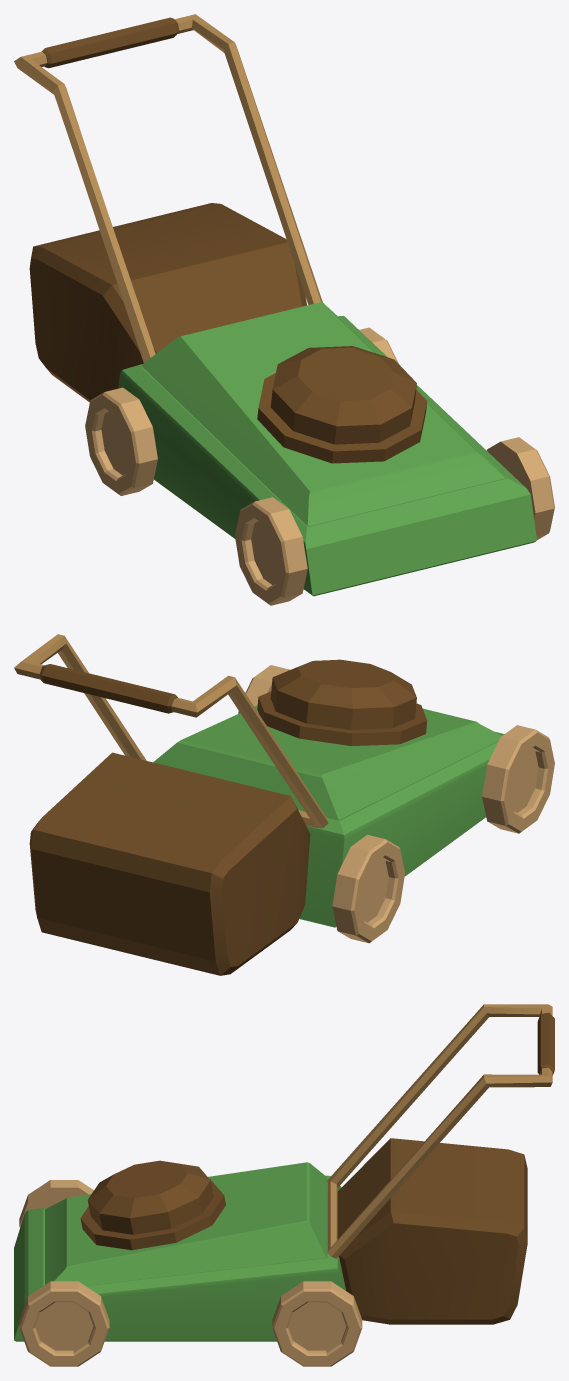
File: lawn_mower_a.gltf
The picture shows the model from 3 angles, top to bottom: view 1: azimuth 30°, elevation 25°; view 2: azimuth 150°, elevation 25°; view 3: azimuth 270°, elevation 25°; orthographic projection. The views are drawn at different scales.
Parts seen in each view (by area): view 1: lawn mower_a001; view 2: lawn mower_a001; view 3: lawn mower_a001.
Boxes of the visible parts, left/top/right/bottom form: lawn mower_a001: left=14, top=14, right=554, bottom=605; lawn mower_a001: left=14, top=634, right=554, bottom=975; lawn mower_a001: left=14, top=1004, right=554, bottom=1366.
Bounding box in the file's own units: 0.6098 × 0.7024 × 1.26.
1 material, 1 textured.
